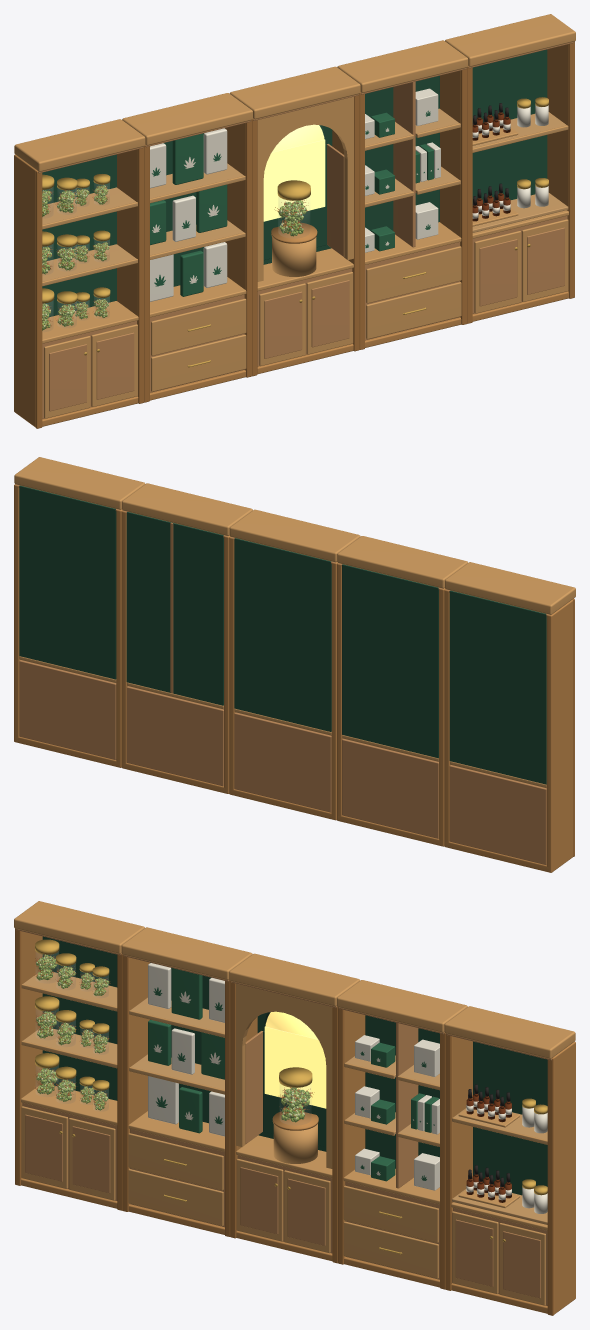
The model's file is product_shelving.glb.
The picture shows the model from 3 angles, top to bottom: view 1: azimuth 30°, elevation 25°; view 2: azimuth 150°, elevation 25°; view 3: azimuth 330°, elevation 25°; orthographic projection.
Visible parts, largest first — view 1: Back4, Side0-2.51, NicheFrame, Back0, Crown0, Crown3, Crown2, Crown1, Crown4, Bay1Drawer1, Bay1Drawer0, Bay3Drawer0 (+70 smaller); view 2: Back0, Back2, Back4, Back1, Back3, BaseBody2, BaseBody3, BaseBody0, BaseBody4, BaseBody1, Side0-2.51, Crown0 (+19 smaller); view 3: Back4, Side42.46, NicheFrame, Back0, Crown4, Crown1, Crown2, Crown3, Crown0, Bay3Drawer1, Bay3Drawer0, Bay1Drawer0 (+71 smaller).
Part boxes in pixels (x1=…): Back4: x1=472, y1=49, x2=547, y2=205; Side0-2.51: x1=14, y1=154, x2=36, y2=427; NicheFrame: x1=257, y1=96, x2=353, y2=281; Back0: x1=42, y1=154, x2=116, y2=317; Crown0: x1=14, y1=119, x2=145, y2=171; Crown3: x1=337, y1=40, x2=468, y2=92; Crown2: x1=229, y1=66, x2=360, y2=119; Crown1: x1=122, y1=93, x2=252, y2=145; Crown4: x1=445, y1=14, x2=575, y2=66; Bay1Drawer1: x1=151, y1=298, x2=246, y2=355; Bay1Drawer0: x1=151, y1=334, x2=246, y2=391; Bay3Drawer0: x1=366, y1=282, x2=461, y2=339; Back0: x1=449, y1=590, x2=546, y2=784; Back2: x1=234, y1=538, x2=331, y2=731; Back4: x1=19, y1=485, x2=116, y2=679; Back1: x1=342, y1=564, x2=438, y2=758; Back3: x1=126, y1=512, x2=223, y2=705; BaseBody2: x1=234, y1=712, x2=331, y2=812; BaseBody3: x1=126, y1=686, x2=223, y2=786; BaseBody0: x1=449, y1=765, x2=546, y2=864; BaseBody4: x1=19, y1=660, x2=116, y2=759; BaseBody1: x1=342, y1=738, x2=438, y2=838; Side0-2.51: x1=546, y1=600, x2=573, y2=872; Crown0: x1=445, y1=562, x2=575, y2=614; Back4: x1=473, y1=1041, x2=547, y2=1195; Side42.46: x1=553, y1=1041, x2=575, y2=1314; NicheFrame: x1=236, y1=983, x2=332, y2=1168; Back0: x1=42, y1=936, x2=117, y2=1100; Crown4: x1=444, y1=1006, x2=575, y2=1058; Crown1: x1=121, y1=927, x2=252, y2=979; Crown2: x1=229, y1=953, x2=360, y2=1006; Crown3: x1=337, y1=980, x2=467, y2=1032; Crown0: x1=14, y1=901, x2=144, y2=953; Bay3Drawer1: x1=343, y1=1185, x2=438, y2=1242; Bay3Drawer0: x1=343, y1=1221, x2=438, y2=1278; Bay1Drawer0: x1=128, y1=1169, x2=223, y2=1226.
Size of the model in its own units: 5.03 by 2.39 by 0.4087.
